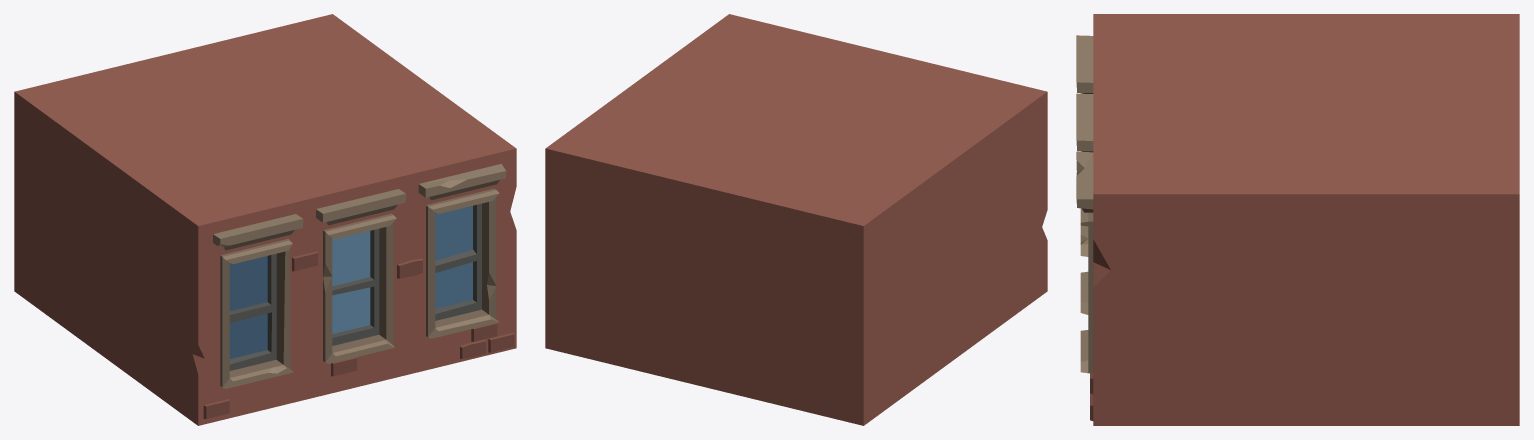
File: SM_Bld_Apartment_01.glb
3 renders of one model, left to right at view 1: azimuth 30°, elevation 25°; view 2: azimuth 150°, elevation 25°; view 3: azimuth 270°, elevation 25°, orthographic. The views are drawn at different scales.
Parts seen in each view (by area): view 1: SM_Bld_Apartment_01; view 2: SM_Bld_Apartment_01; view 3: SM_Bld_Apartment_01.
Part boxes in pixels (left/top/right/bottom): SM_Bld_Apartment_01: left=14, top=14, right=516, bottom=425; SM_Bld_Apartment_01: left=545, top=14, right=1047, bottom=425; SM_Bld_Apartment_01: left=1076, top=14, right=1519, bottom=425.
Size of the model in its own units: 0.05 by 0.03 by 0.052.
1 material, 1 textured.
